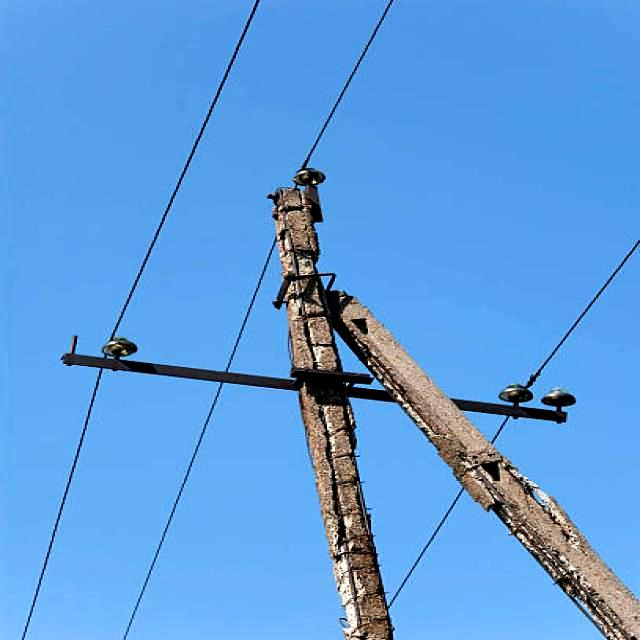Broken Pole: (316, 283, 640, 640)
